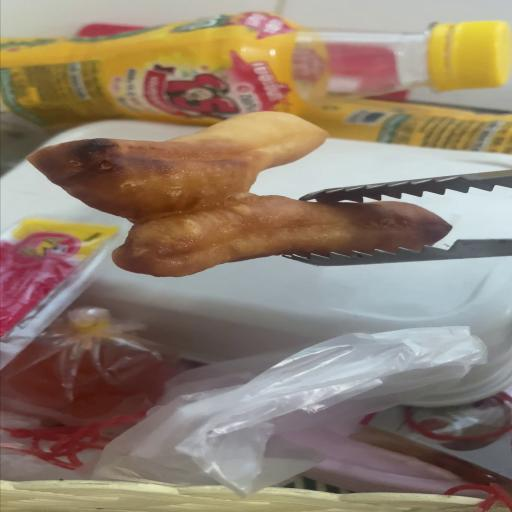street_burnt_good: (28, 113, 454, 275)
